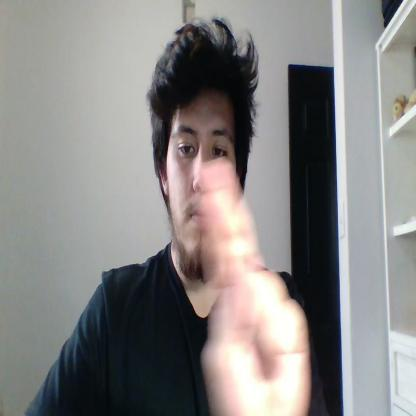R: (198, 157, 311, 415)
